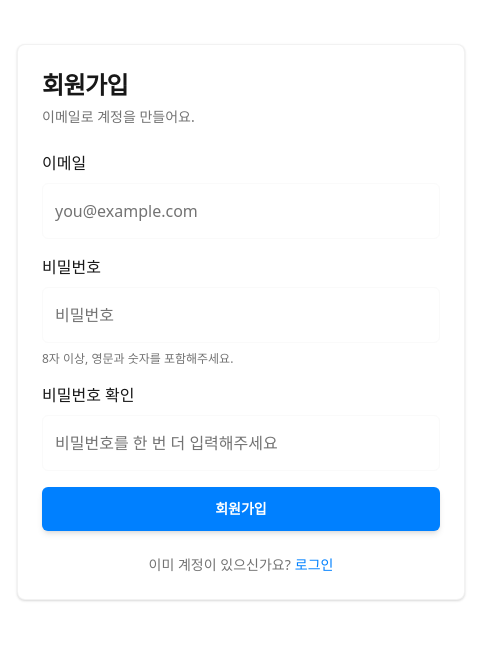
Test: SignupPage 422 already-registered branch › shows inline 안내 message and does NOT navigate to /verify-email
Type "taken@example.com" into the field labelled "이메일". click: (241, 211)
box: [42,183,440,239]
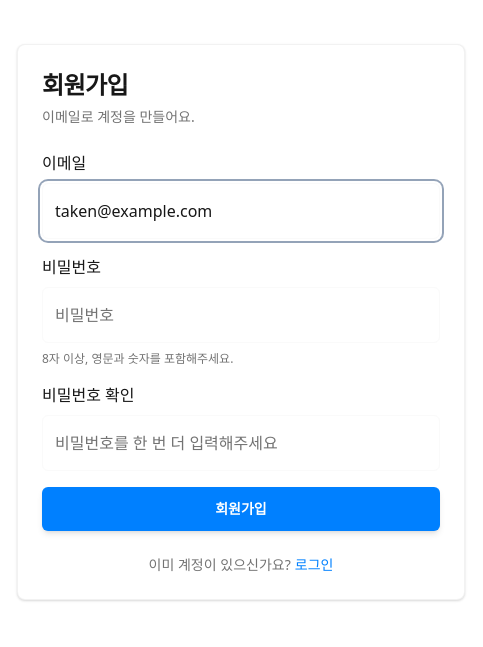
Type "StrongPass-2026!" into the password field labelled "비밀번호". click: (241, 315)
box: [42,287,440,343]
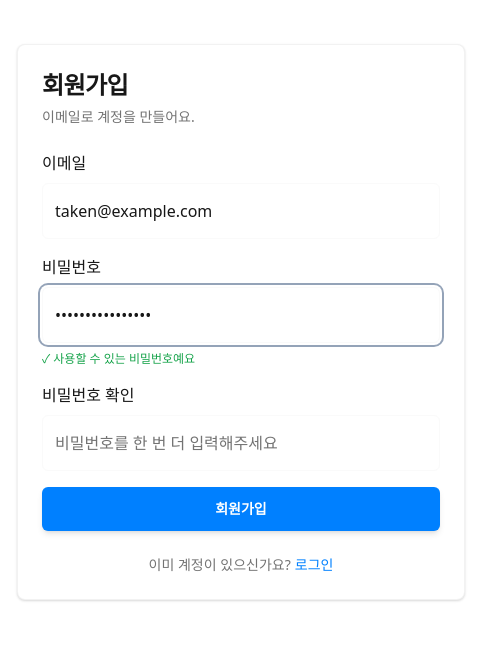
Type "StrongPass-2026!" into the password field labelled "비밀번호 확인". click: (241, 443)
box: [42,415,440,471]
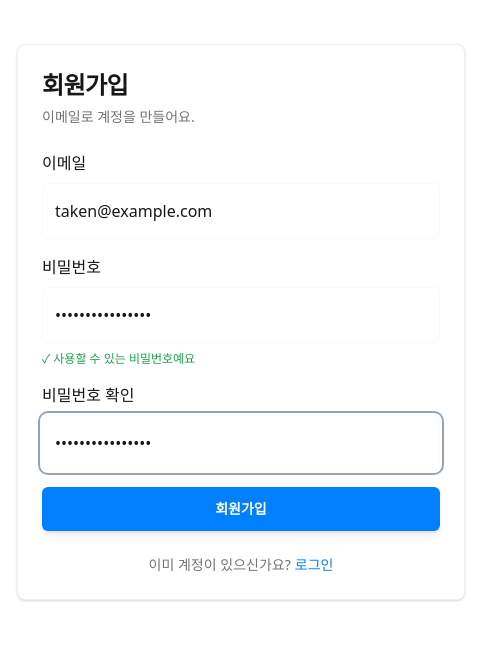
Click the button "회원가입". click: (241, 509)
box: [42,487,440,531]
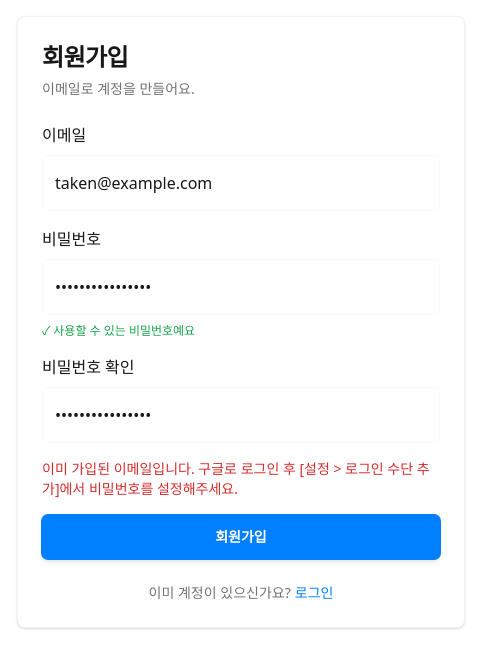
Expected: the text "이미 가입된 이메일입니다. 구글로 로그인 후 [설정 > 로그인 수단 추가]에서 비밀번호를 설정해주세요." is shown, [42,459,440,499]
